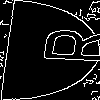R: (25, 25, 100, 65)
